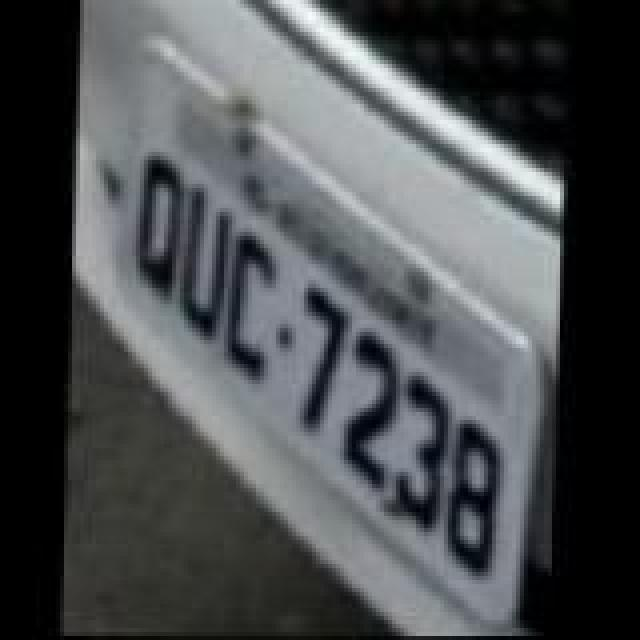2: (342, 334, 402, 494)
3: (394, 376, 458, 532)
7: (296, 286, 352, 430)
8: (442, 422, 506, 582)
C: (220, 226, 284, 378)
Q: (130, 156, 194, 308)
U: (178, 186, 238, 338)
